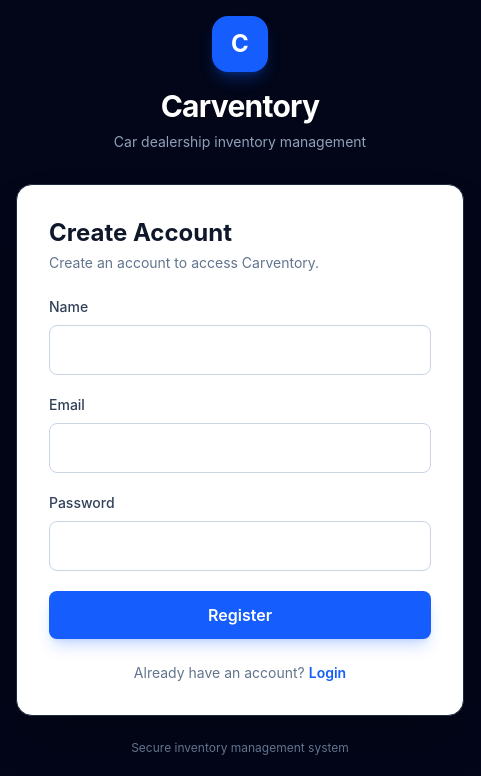
RegisterPage › should display an error message when registration fails
The image size is (481, 776).
Step 1. Type "John Doe" into the field labelled "Name" → (240, 350), box [49,325,431,375]
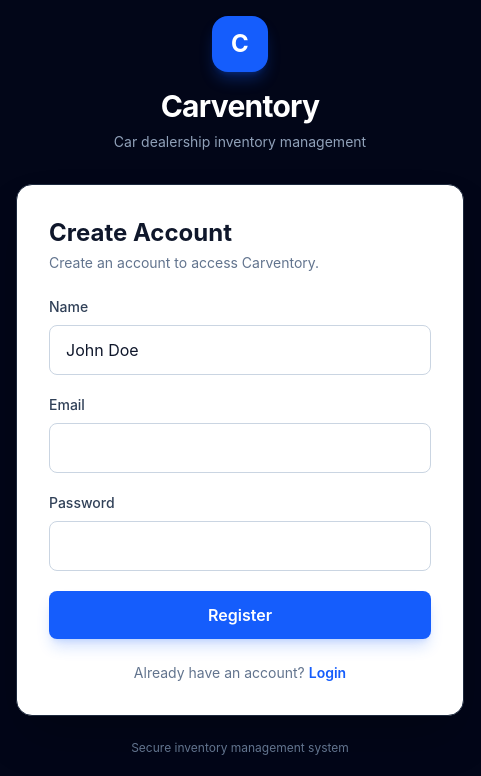
Step 2. Type "john@example.com" into the field labelled "Email" → (240, 448), box [49,423,431,473]
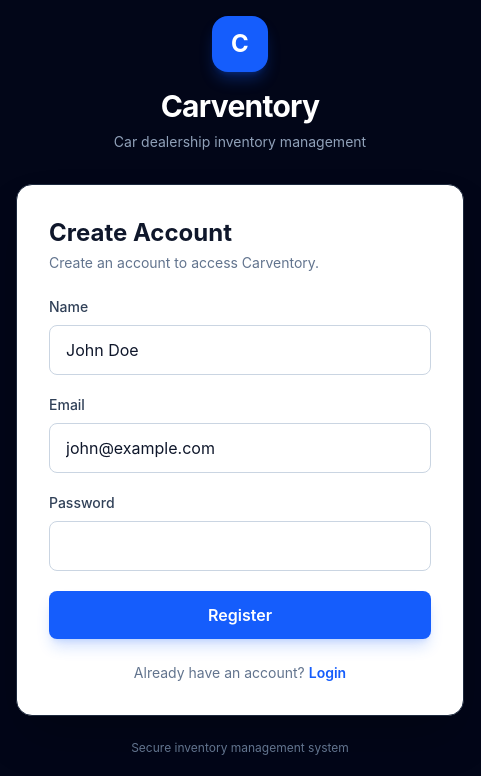
Step 3. Type "Password123!" into the password field labelled "Password" → (240, 546), box [49,521,431,571]
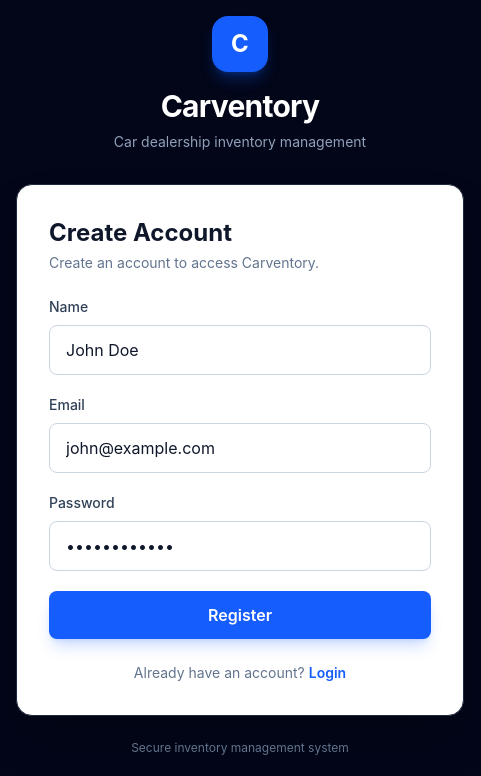
Step 4. Click the button "Register" → (240, 615), box [49,591,431,639]
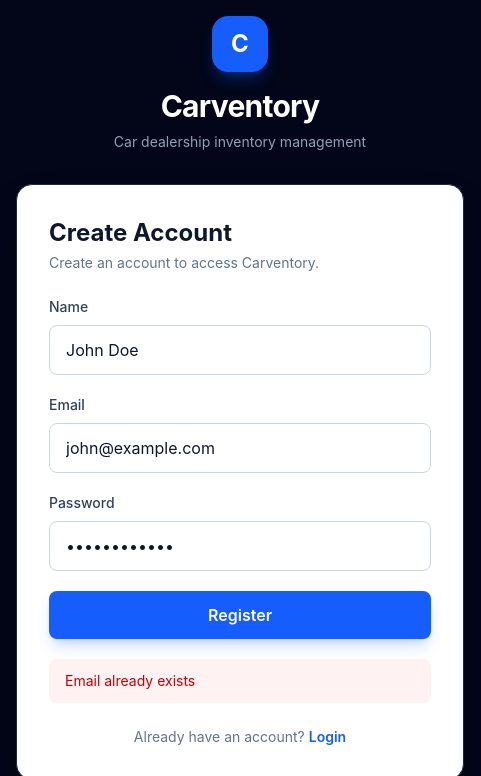
Now the text "Email already exists" is shown, box [49,659,431,703]
